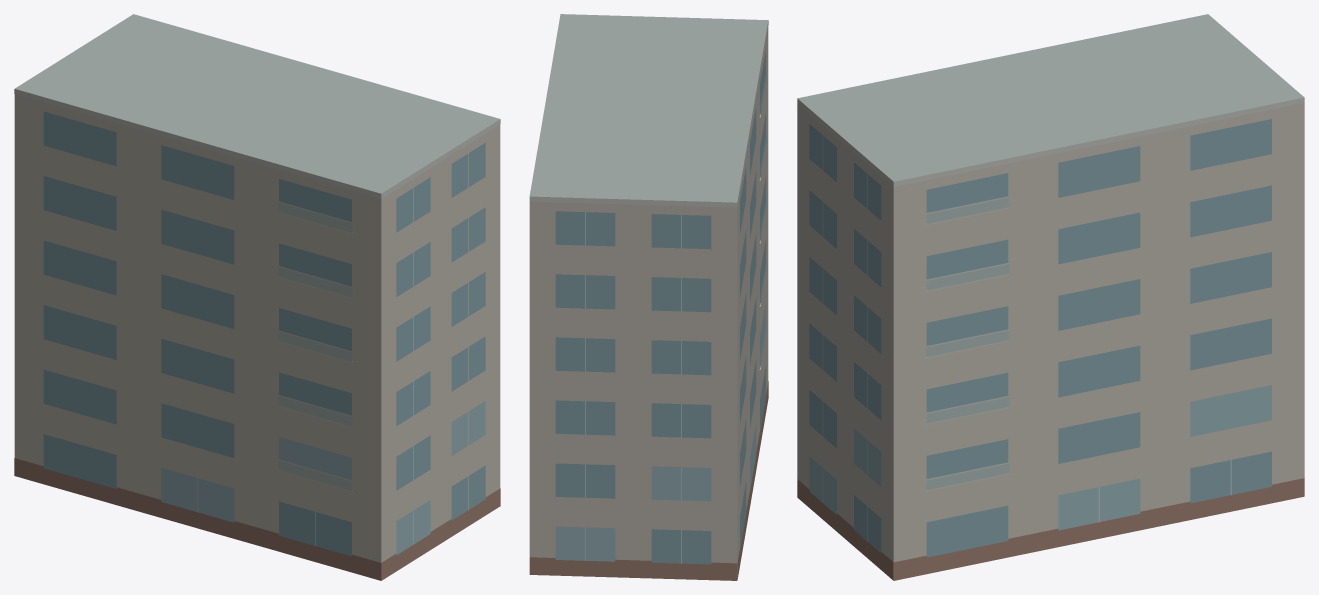
The model's file is survey-upis-32707380.glb.
The picture shows the model from 3 angles, left to right: view 1: azimuth 30°, elevation 25°; view 2: azimuth 150°, elevation 25°; view 3: azimuth 270°, elevation 25°; orthographic projection. The views are drawn at different scales.
Parts seen in each view (by area): view 1: survey-upis-32707380.tmp; view 2: survey-upis-32707380.tmp; view 3: survey-upis-32707380.tmp.
Part boxes in pixels (bbox=[...]): survey-upis-32707380.tmp: bbox=[14, 14, 500, 580]; survey-upis-32707380.tmp: bbox=[529, 14, 768, 580]; survey-upis-32707380.tmp: bbox=[797, 14, 1304, 580].
Size of the model in its own units: 16.51 by 18.3 by 21.09.
